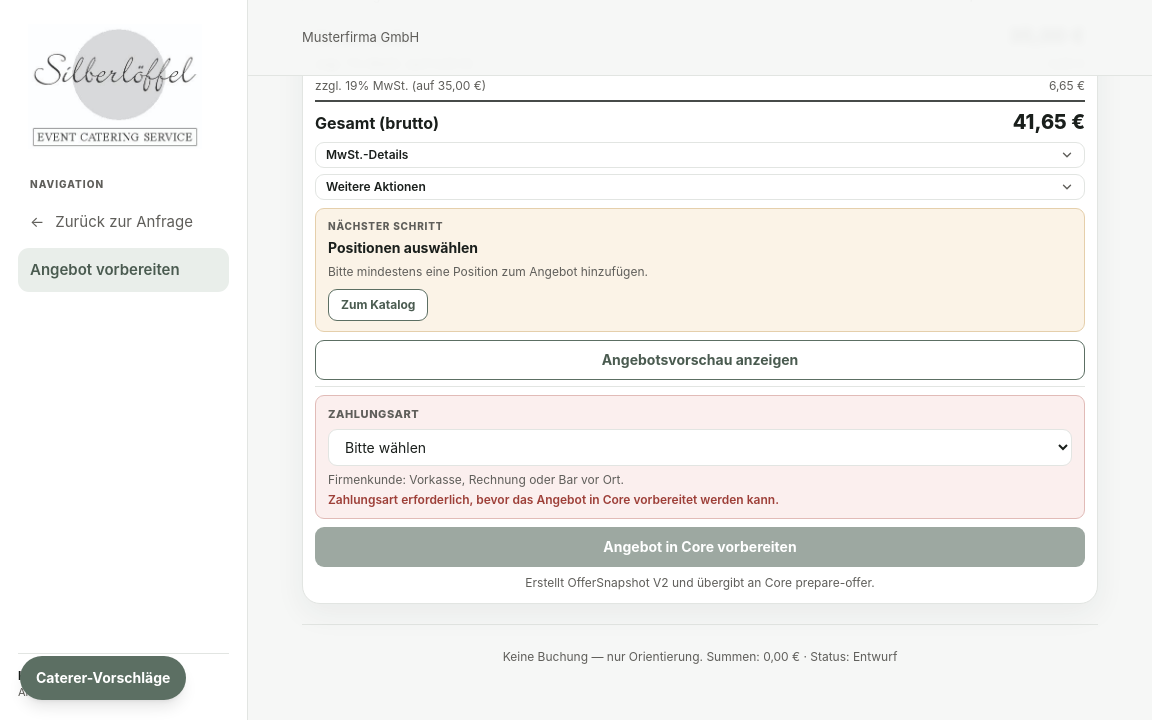
Inquiry handoff context — visible form, Angebotsvorschau, OfferSnapshot › shows the same recipient, address, and event date/time in Angebotsvorschau
The width and height of the screenshot is (1152, 720).
(page scrolled)
Click the button "Angebotsvorschau anzeigen" at (700, 360), box [315,340,1085,380]
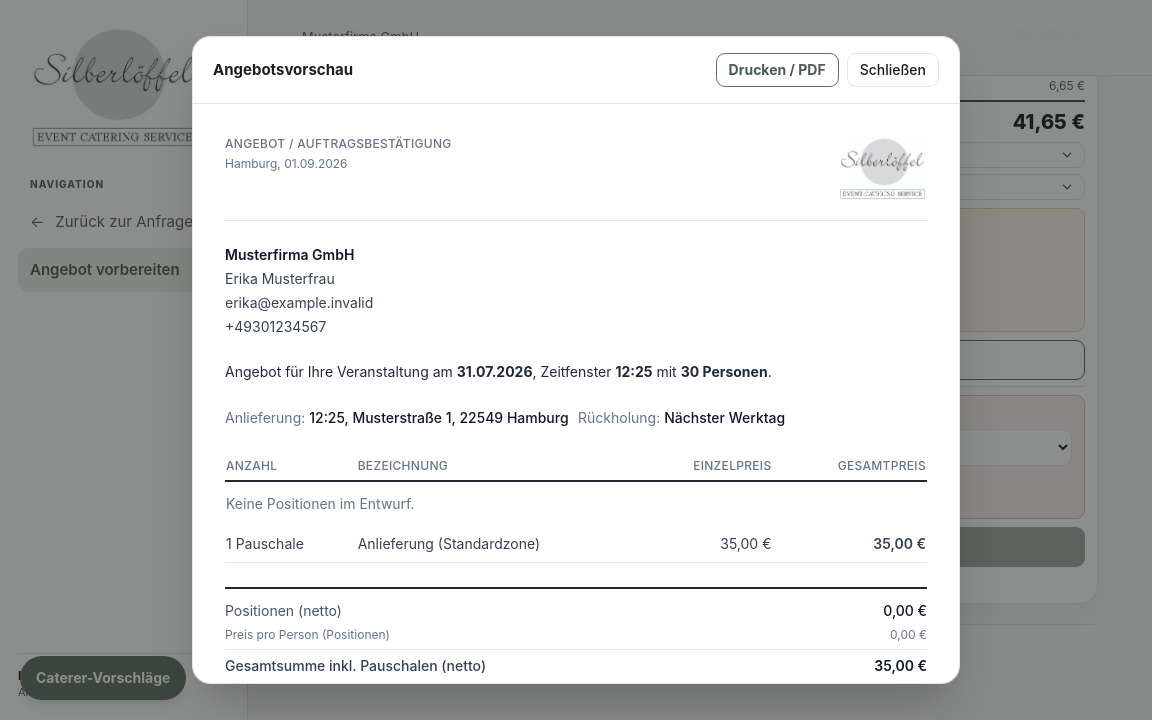
Expected: the text "Musterfirma GmbH" is shown, [225,246,354,263]
Expected: the text "Erika Musterfrau" is shown, [225,270,335,287]
Expected: the text "erika@example.invalid" is shown, [225,294,373,311]
